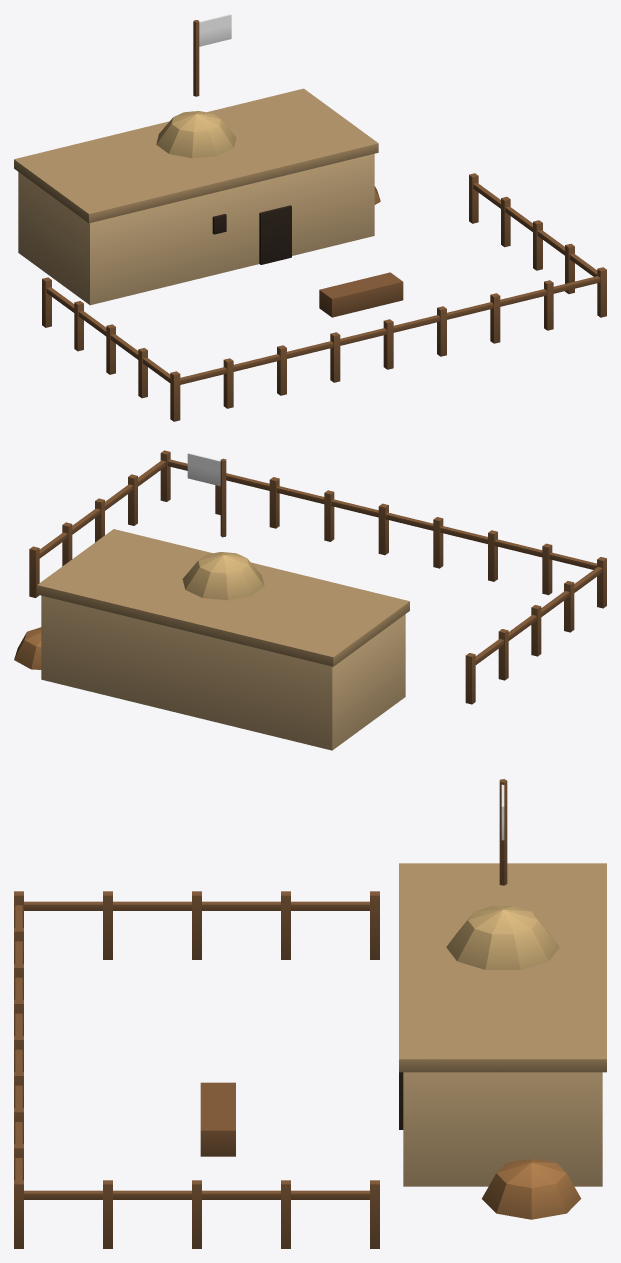
The model's file is STABLE_INDIAN.glb.
The picture shows the model from 3 angles, top to bottom: view 1: azimuth 30°, elevation 25°; view 2: azimuth 150°, elevation 25°; view 3: azimuth 270°, elevation 25°; orthographic projection. The views are drawn at different scales.
Visible parts, largest first — view 1: Body, Flag; view 2: Body, Flag; view 3: Body.
Part boxes in pixels (<box>): Body: <box>14,20,606,421</box>; Flag: <box>199,14,231,46</box>; Body: <box>14,450,606,750</box>; Flag: <box>187,453,220,486</box>; Body: <box>14,779,606,1248</box>.
Bounding box in the file's own units: 4.87 × 2.4 × 4.17.
Materials: 1 (1 with a texture image).
